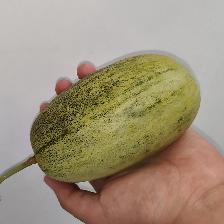gua: (39, 70, 185, 167)
